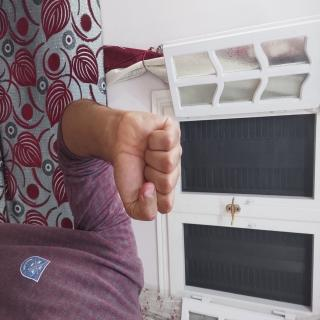SAD: (73, 176, 169, 289)
